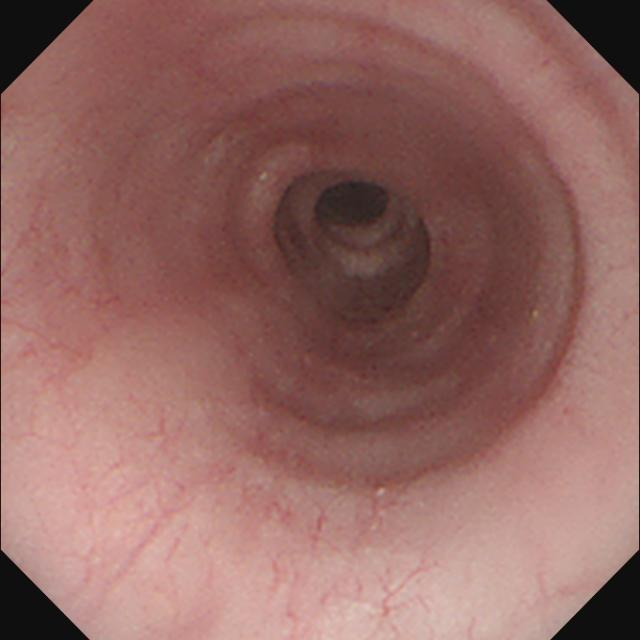E: (292, 170, 422, 284)
